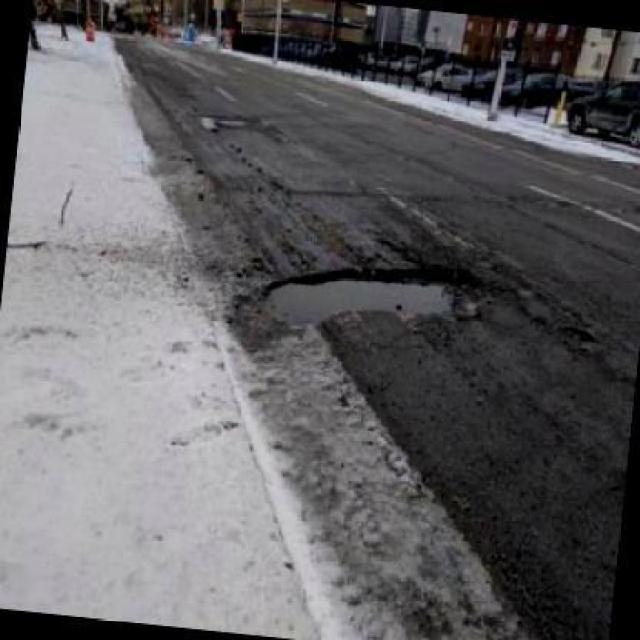pothole: (243, 269, 492, 335)
